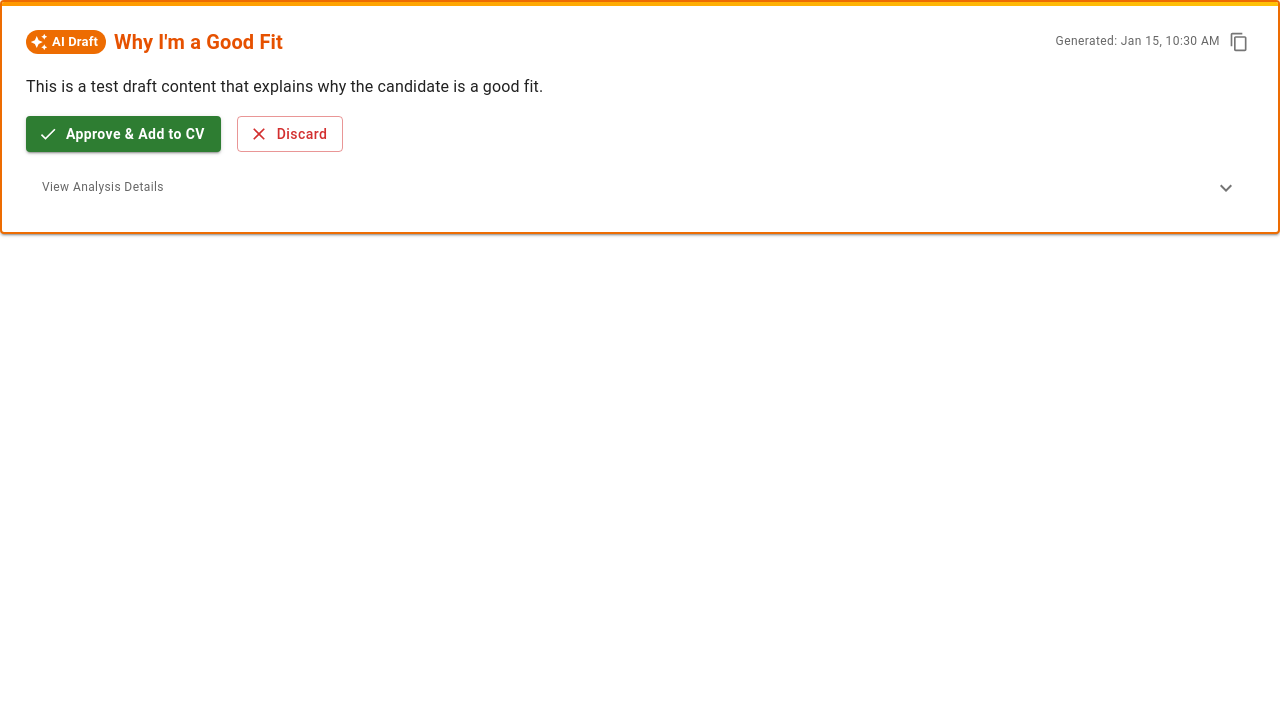
Test: InlineDraftSection › shows draft metadata in accordion
// Click to expand the accordion
What coordinates should you click on to do the following:
click the button "View Analysis Details"
I would click on:
 (103, 187)
Its box is [26,168,1254,208].
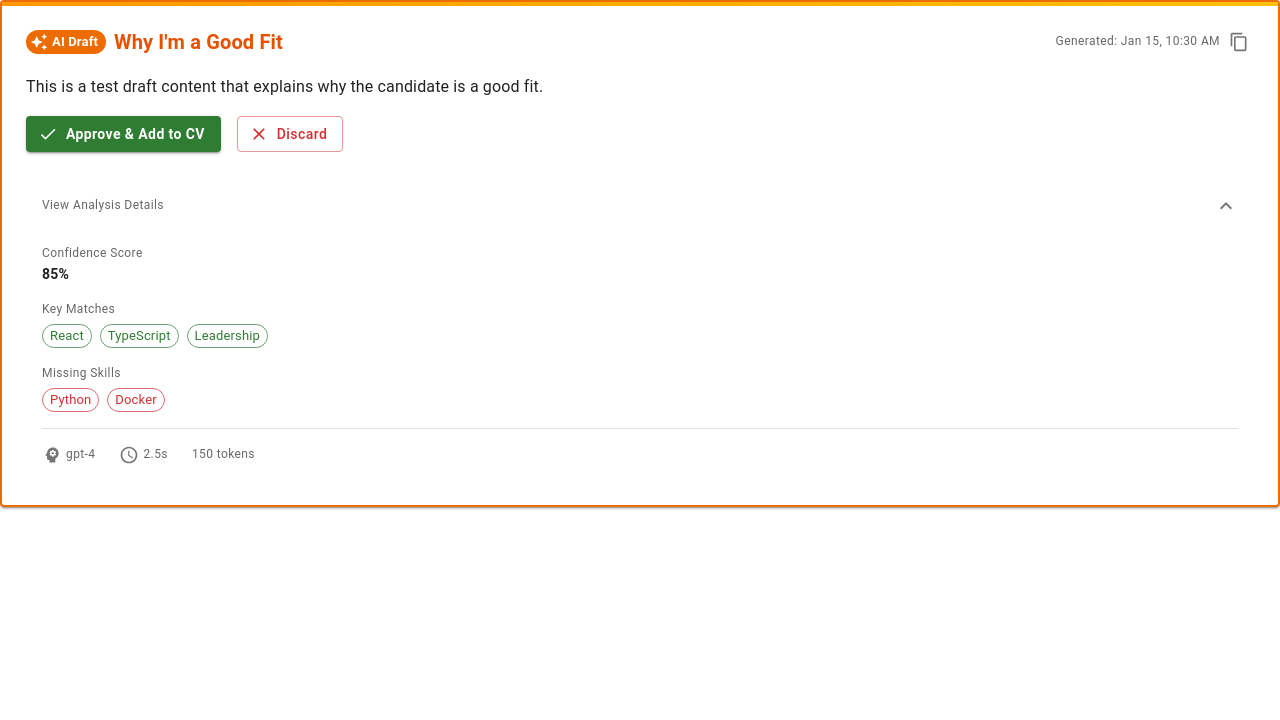
Now the text "Confidence Score" is shown, box [42,246,143,260]
Now the text "85%" is shown, box [42,266,69,282]
Now the text "Key Matches" is shown, box [42,302,115,316]
